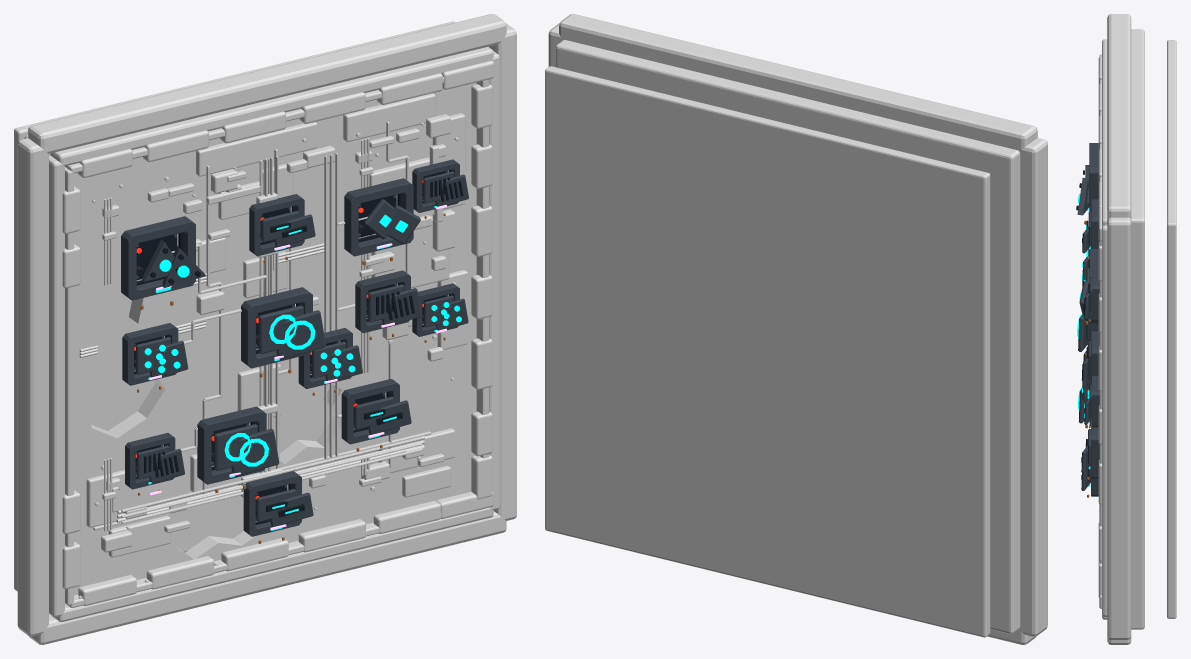
Rendered from QF_MachineCube_Face2_NodeKitV2.fbx.
3 views of the same model, side by side, from view 1: azimuth 30°, elevation 25°; view 2: azimuth 150°, elevation 25°; view 3: azimuth 270°, elevation 25° (orthographic). The views are drawn at different scales.
Visible parts, largest first — view 1: C2_DamagedSkin, C2_RearBulkhead, C2_OuterFrame_Left, C2_OuterFrame_Top, C2_OuterFrame_Bottom, C2_OuterFrame_Right, C2_MiddleFrame_Left, C2_MiddleFrame_Top, C2_MiddleFrame_Bottom, C2_MiddleFrame_Right, C2_MacroPanel_00, F2S00_DAMAGED_NODE_04_RELAY_DAMAGED_FrameIntegrated (+71 smaller); view 2: C2_RearBulkhead, C2_DamagedSkin, C2_OuterFrame_Left, C2_OuterFrame_Top; view 3: C2_OuterFrame_Right, C2_DamagedSkin, C2_RearBulkhead, C2_OuterFrame_Top, C2_MiddleFrame_Right, C2_MiddleFrame_Top, F2S00_DAMAGED_NODE_04_RELAY_DAMAGED_FrameIntegrated, F2S08_DAMAGED_NODE_06_HORIZONTAL_DAMAGED_FrameIntegrated, F2S01_DAMAGED_NODE_06_HORIZONTAL_DAMAGED_FrameIntegrated, F2S05_DAMAGED_NODE_03_VENT_DAMAGED_FrameIntegrated, F2S11_DAMAGED_NODE_02_SENSOR_DAMAGED_FrameIntegrated, F2S12_DAMAGED_NODE_03_VENT_DAMAGED_FrameIntegrated (+9 smaller).
Part boxes in pixels (x1,y1,x2,y2): C2_DamagedSkin: (24, 82, 476, 595); C2_RearBulkhead: (14, 21, 455, 591); C2_OuterFrame_Left: (17, 138, 48, 636); C2_OuterFrame_Top: (28, 14, 506, 153); C2_OuterFrame_Bottom: (29, 511, 506, 644); C2_OuterFrame_Right: (488, 23, 516, 520); C2_MiddleFrame_Left: (49, 155, 64, 617); C2_MiddleFrame_Top: (50, 47, 493, 166); C2_MiddleFrame_Bottom: (52, 507, 493, 621); C2_MiddleFrame_Right: (489, 51, 499, 510); C2_MacroPanel_00: (196, 122, 317, 176); F2S00_DAMAGED_NODE_04_RELAY_DAMAGED_FrameIntegrated: (121, 216, 195, 300); C2_RearBulkhead: (545, 66, 990, 637); C2_DamagedSkin: (555, 40, 1020, 634); C2_OuterFrame_Left: (1019, 138, 1047, 636); C2_OuterFrame_Top: (559, 14, 1037, 152); C2_OuterFrame_Right: (1107, 217, 1131, 639); C2_DamagedSkin: (1131, 29, 1144, 629); C2_RearBulkhead: (1167, 40, 1176, 618); C2_OuterFrame_Top: (1107, 14, 1131, 218); C2_MiddleFrame_Right: (1102, 225, 1107, 616); C2_MiddleFrame_Top: (1102, 39, 1107, 225); F2S00_DAMAGED_NODE_04_RELAY_DAMAGED_FrameIntegrated: (1089, 143, 1098, 211); F2S08_DAMAGED_NODE_06_HORIZONTAL_DAMAGED_FrameIntegrated: (1091, 418, 1099, 478); F2S01_DAMAGED_NODE_06_HORIZONTAL_DAMAGED_FrameIntegrated: (1091, 199, 1099, 248); F2S05_DAMAGED_NODE_03_VENT_DAMAGED_FrameIntegrated: (1091, 331, 1099, 384); F2S11_DAMAGED_NODE_02_SENSOR_DAMAGED_FrameIntegrated: (1092, 376, 1099, 427); F2S12_DAMAGED_NODE_03_VENT_DAMAGED_FrameIntegrated: (1092, 270, 1099, 320).
Bounding box in the file's own units: 8.86 × 8.86 × 1.84.
